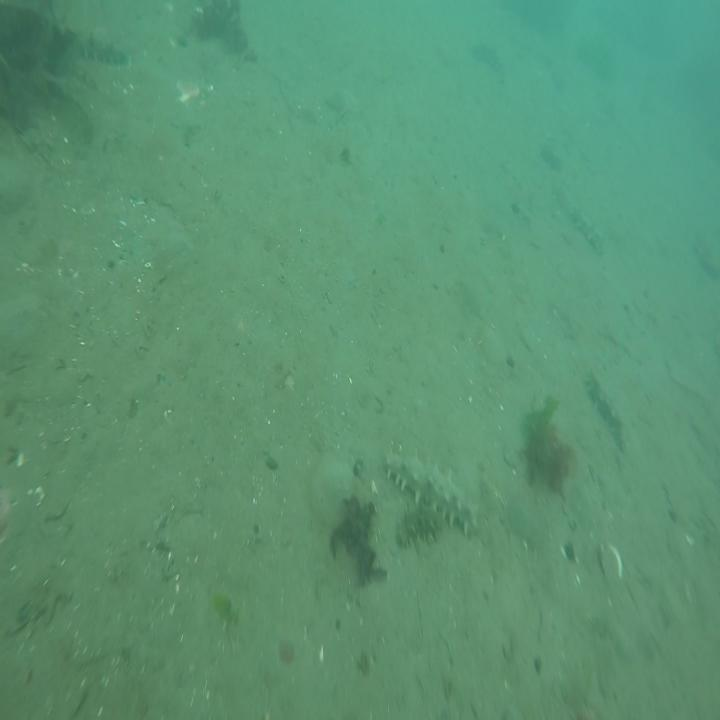holothurian: (380, 446, 477, 535), (62, 35, 128, 66), (396, 507, 442, 546)
